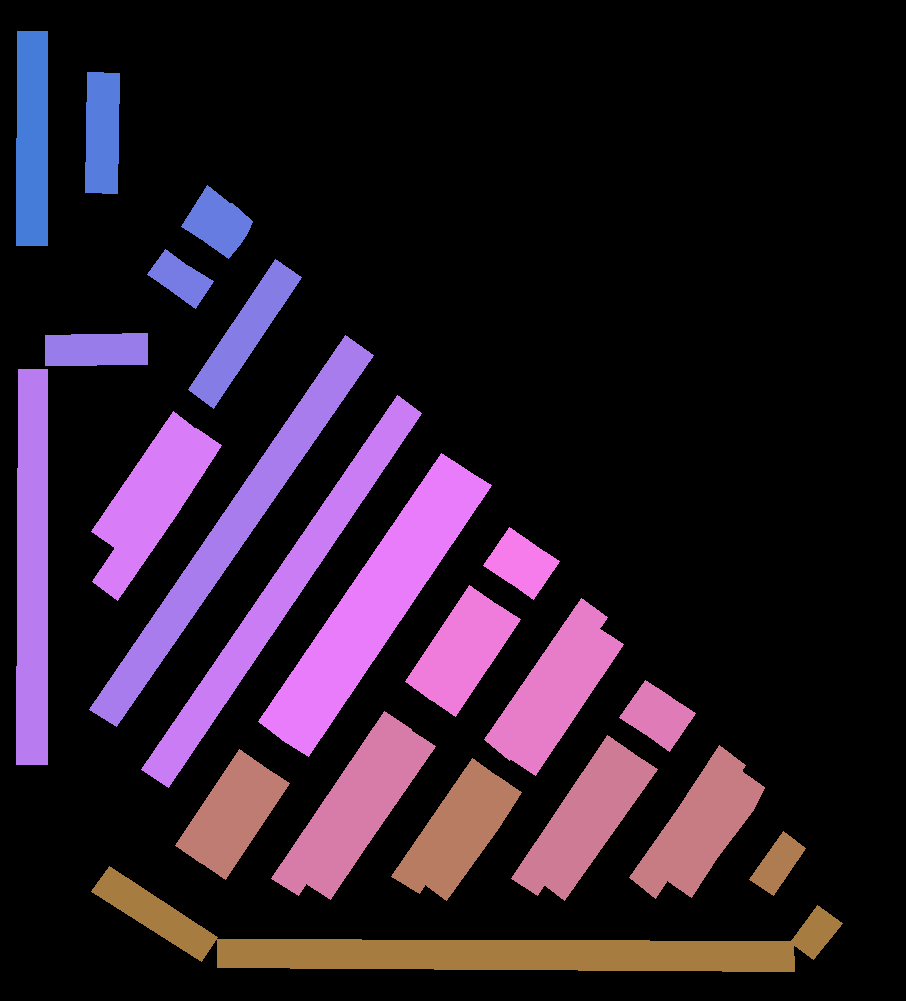parkingspot: (89, 335, 373, 726), (141, 395, 421, 787), (281, 469, 491, 756), (258, 453, 467, 741), (271, 711, 411, 895), (304, 729, 435, 899), (92, 428, 221, 600), (484, 598, 607, 760), (511, 735, 633, 895), (217, 939, 794, 971), (629, 745, 745, 898), (542, 752, 657, 900), (508, 627, 623, 775), (188, 259, 301, 408), (91, 411, 197, 549), (391, 758, 498, 893), (665, 770, 764, 897), (423, 775, 521, 900), (16, 369, 47, 764), (91, 866, 217, 961), (405, 585, 496, 700), (175, 749, 266, 863), (429, 603, 520, 716), (199, 766, 289, 879), (16, 31, 47, 245), (85, 72, 119, 193), (749, 831, 805, 895), (45, 333, 147, 365), (483, 527, 535, 583), (181, 185, 232, 242), (790, 905, 842, 959), (619, 680, 671, 734), (644, 696, 695, 751), (508, 544, 559, 599), (204, 203, 252, 258), (170, 265, 213, 308), (147, 249, 189, 291)
